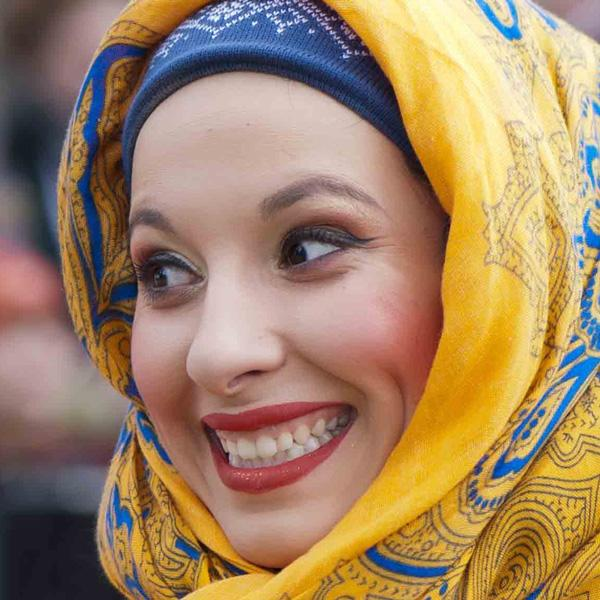Eyes: (262, 214, 365, 283), (127, 243, 212, 312)
